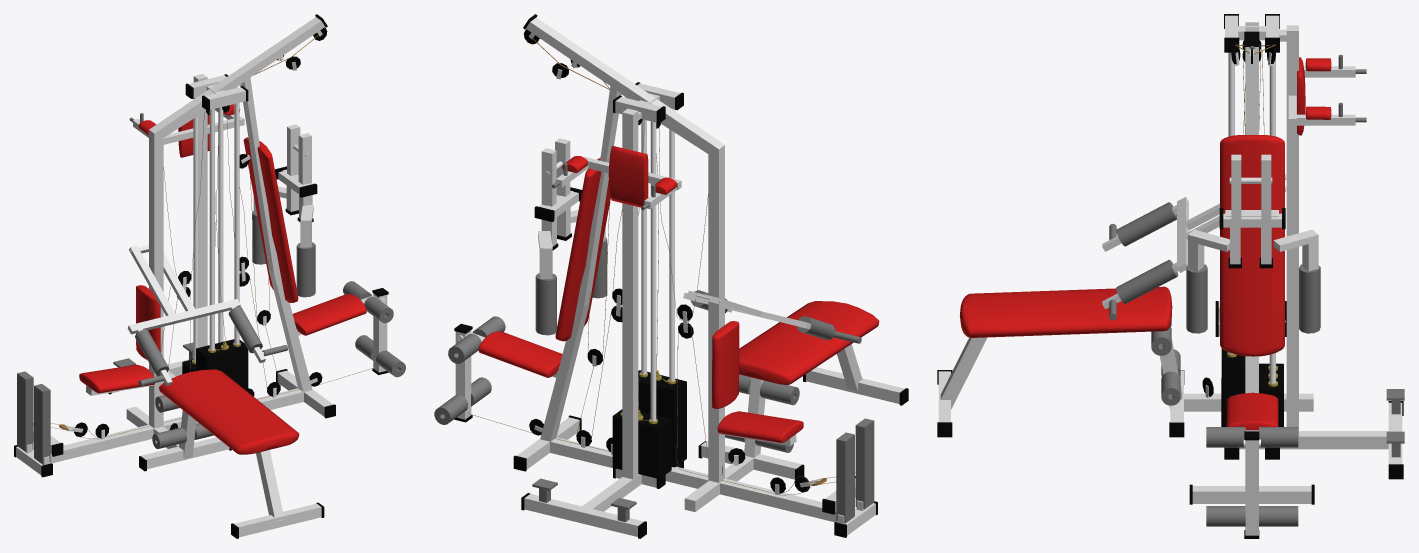
File: biggym.fbx
3 views of the same model, side by side, from view 1: azimuth 30°, elevation 25°; view 2: azimuth 150°, elevation 25°; view 3: azimuth 270°, elevation 25° (orthographic). The views are drawn at different scales.
Visible parts, largest first — view 1: MAINFRAME, MIDHANDBAR, TOPHANDBAR, weights2, LEGBAR, CABLES, L-FORSTEP, R-FOOTSTEP; view 2: MAINFRAME, TOPHANDBAR, weights3, LEGBAR, weights2, MIDHANDBAR, CABLES, R-FOOTSTEP, L-FORSTEP, Weights1; view 3: MAINFRAME, TOPHANDBAR, MIDHANDBAR, LEGBAR, weights2, weights3.
Boxes of the visible parts, x1=… form: MAINFRAME: x1=14, y1=14, x2=393, y2=538; MIDHANDBAR: x1=127, y1=245, x2=287, y2=386; TOPHANDBAR: x1=252, y1=124, x2=317, y2=297; weights2: x1=196, y1=339, x2=248, y2=383; LEGBAR: x1=355, y1=288, x2=405, y2=377; CABLES: x1=29, y1=35, x2=375, y2=439; L-FORSTEP: x1=17, y1=371, x2=33, y2=451; R-FOOTSTEP: x1=34, y1=384, x2=50, y2=463; MAINFRAME: x1=448, y1=14, x2=908, y2=538; TOPHANDBAR: x1=534, y1=138, x2=607, y2=335; weights3: x1=612, y1=409, x2=671, y2=478; LEGBAR: x1=434, y1=323, x2=491, y2=424; weights2: x1=638, y1=370, x2=686, y2=428; MIDHANDBAR: x1=683, y1=290, x2=861, y2=343; CABLES: x1=468, y1=35, x2=860, y2=495; R-FOOTSTEP: x1=855, y1=418, x2=874, y2=509; L-FORSTEP: x1=836, y1=432, x2=854, y2=523; Weights1: x1=671, y1=420, x2=686, y2=467; MAINFRAME: x1=937, y1=14, x2=1404, y2=504; TOPHANDBAR: x1=1186, y1=154, x2=1320, y2=333; MIDHANDBAR: x1=1102, y1=174, x2=1286, y2=320; LEGBAR: x1=1206, y1=431, x2=1298, y2=538; weights2: x1=1221, y1=348, x2=1245, y2=402; weights3: x1=1259, y1=363, x2=1283, y2=426.
Size of the model in its own units: 81.42 by 82.36 by 72.79.
